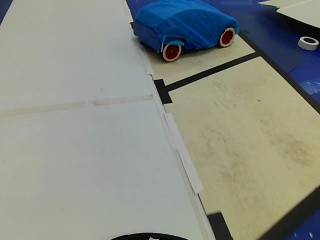car: (120, 0, 243, 63)
